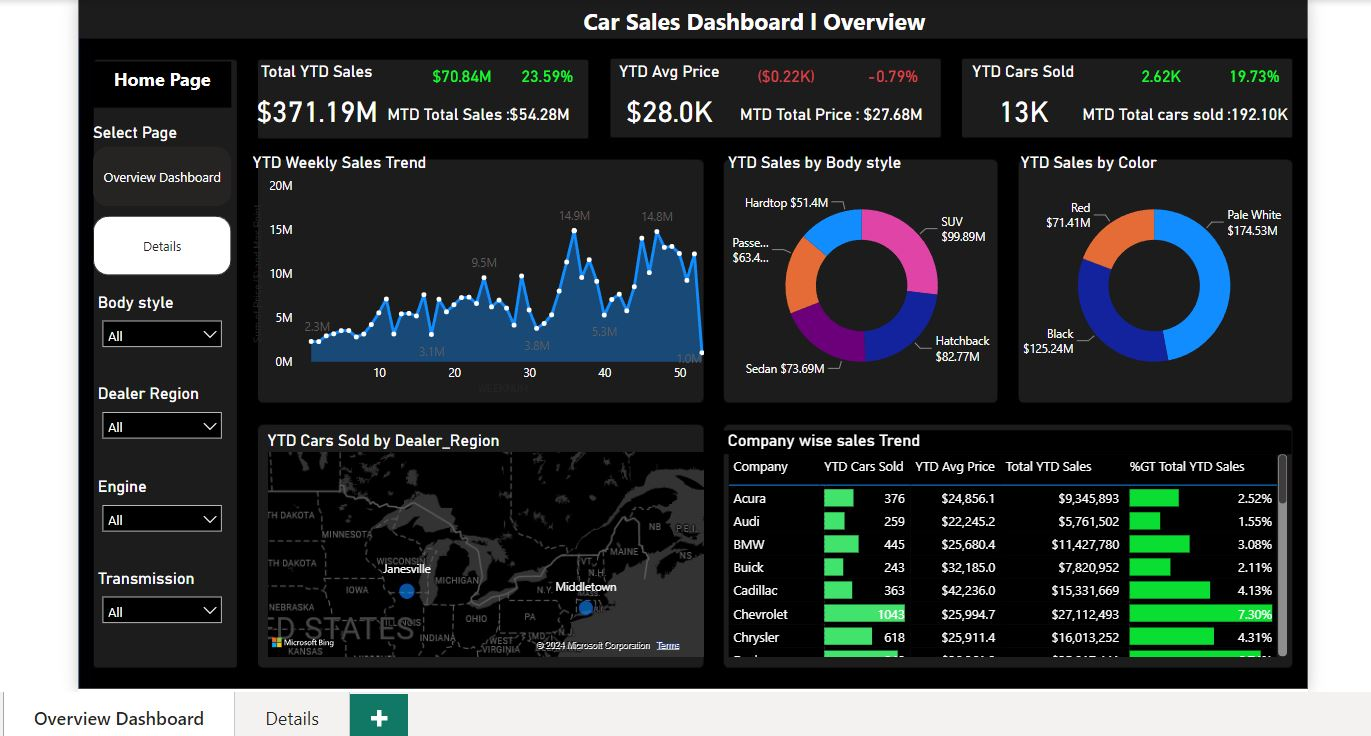

This screenshot's page, from the dashboard's own definition file:
{"tool":"powerbi","page":{"name":"Overview Dashboard","canvas":[1280,720],"ordinal":0},"visuals":[{"type":"card","title":"Total YTD Sales","fields":{"Values":["car_data.TotalYTD"]},"box":[176,64,144,80],"z":0},{"type":"card","title":"Sales difference ","fields":{"Values":["car_data.Sales difference"]},"box":[352,64,96,32],"z":1},{"type":"card","title":"Sales difference ","fields":{"Values":["car_data.Sales growth"]},"box":[448,64,80,32],"z":2},{"type":"card","fields":{"Values":["car_data.MTD KPI"]},"box":[304,96,224,48],"z":3},{"type":"card","title":"YTD Avg Price","fields":{"Values":["car_data.YTD Avg Price"]},"box":[544,64,144,80],"z":4},{"type":"card","title":"Sales difference ","fields":{"Values":["car_data.Avg Price Difference"]},"box":[688,64,96,32],"z":5},{"type":"card","title":"Sales difference ","fields":{"Values":["car_data.Yoy Price Growth"]},"box":[800,64,96,32],"z":6},{"type":"card","fields":{"Values":["car_data.MTD KPI Price"]},"box":[656,96,256,48],"z":7},{"type":"card","title":"YTD Cars Sold","fields":{"Values":["car_data.YTD Cars Sold"]},"box":[912,64,144,80],"z":8},{"type":"card","title":"Sales difference ","fields":{"Values":["car_data.CARS SOLD DIFFERENCE"]},"box":[1072,64,112,32],"z":9},{"type":"card","title":"Sales difference ","fields":{"Values":["car_data.Yoy Cars Sold Growth"]},"box":[1168,64,112,32],"z":10},{"type":"card","fields":{"Values":["car_data.MTD Total Cars Sold"]},"box":[1024,96,256,48],"z":11},{"type":"areaChart","title":"YTD Weekly Sales Trend","fields":{"Category":["Calender Table.WEEKNUM"],"Y":["Sum(car_data.Price ($))","car_data.Max Point"]},"box":[176,160,480,256],"z":12},{"type":"donutChart","title":"YTD Sales by Body style","fields":{"Category":["car_data.Body Style"],"Y":["car_data.Total YTD Sales"]},"box":[672,160,288,256],"z":13},{"type":"donutChart","title":"YTD Sales by Color","fields":{"Y":["car_data.Total YTD Sales"],"Category":["car_data.Color"]},"box":[976,160,288,256],"z":14},{"type":"map","fields":{"Category":["car_data.Dealer_Region"],"Size":["car_data.YTD Cars Sold"]},"box":[192,448,464,240],"z":15},{"type":"tableEx","title":"Company wise sales Trend","fields":{"Values":["car_data.Company","car_data.YTD Cars Sold","car_data.YTD Avg Price","car_data.Total YTD Sales1","car_data.Total YTD Sales"]},"box":[672,448,592,240],"z":16},{"type":"textbox","box":[512,0,384,48],"z":17},{"type":"slicer","title":"Body style","fields":{"Values":["car_data.Body Style"]},"box":[16,304,144,96],"z":18},{"type":"slicer","title":"Dealer Region","fields":{"Values":["car_data.Dealer_Region"]},"box":[16,400,144,96],"z":19},{"type":"slicer","title":"Engine","fields":{"Values":["car_data.Engine"]},"box":[16,496,144,96],"z":20},{"type":"slicer","title":"Transmission","fields":{"Values":["car_data.Transmission"]},"box":[16,592,144,96],"z":21},{"type":"textbox","box":[16,64,144,48],"z":22},{"type":"textbox","box":[16,128,144,48],"z":23},{"type":"pageNavigator","title":"Select Page","box":[16,128,144,160],"z":24}]}

Visuals, with their boxes on the page's 1280x720 design canvas (x1, y1, x2, y2). These are canvas units, not pixel positions in the 1371x736 screenshot, which may show the page scaled, cropped or inside an application window:
"Total YTD Sales" card: (x1=176, y1=64, x2=320, y2=144)
"Sales difference " card: (x1=352, y1=64, x2=448, y2=96)
"Sales difference " card: (x1=448, y1=64, x2=528, y2=96)
card - car_data.MTD KPI: (x1=304, y1=96, x2=528, y2=144)
"YTD Avg Price" card: (x1=544, y1=64, x2=688, y2=144)
"Sales difference " card: (x1=688, y1=64, x2=784, y2=96)
"Sales difference " card: (x1=800, y1=64, x2=896, y2=96)
card - car_data.MTD KPI Price: (x1=656, y1=96, x2=912, y2=144)
"YTD Cars Sold" card: (x1=912, y1=64, x2=1056, y2=144)
"Sales difference " card: (x1=1072, y1=64, x2=1184, y2=96)
"Sales difference " card: (x1=1168, y1=64, x2=1280, y2=96)
card - car_data.MTD Total Cars Sold: (x1=1024, y1=96, x2=1280, y2=144)
"YTD Weekly Sales Trend" areaChart: (x1=176, y1=160, x2=656, y2=416)
"YTD Sales by Body style" donutChart: (x1=672, y1=160, x2=960, y2=416)
"YTD Sales by Color" donutChart: (x1=976, y1=160, x2=1264, y2=416)
map - car_data.Dealer_Region x car_data.YTD Cars Sold: (x1=192, y1=448, x2=656, y2=688)
"Company wise sales Trend" tableEx: (x1=672, y1=448, x2=1264, y2=688)
textbox: (x1=512, y1=0, x2=896, y2=48)
"Body style" slicer: (x1=16, y1=304, x2=160, y2=400)
"Dealer Region" slicer: (x1=16, y1=400, x2=160, y2=496)
"Engine" slicer: (x1=16, y1=496, x2=160, y2=592)
"Transmission" slicer: (x1=16, y1=592, x2=160, y2=688)
textbox: (x1=16, y1=64, x2=160, y2=112)
textbox: (x1=16, y1=128, x2=160, y2=176)
"Select Page" pageNavigator: (x1=16, y1=128, x2=160, y2=288)
